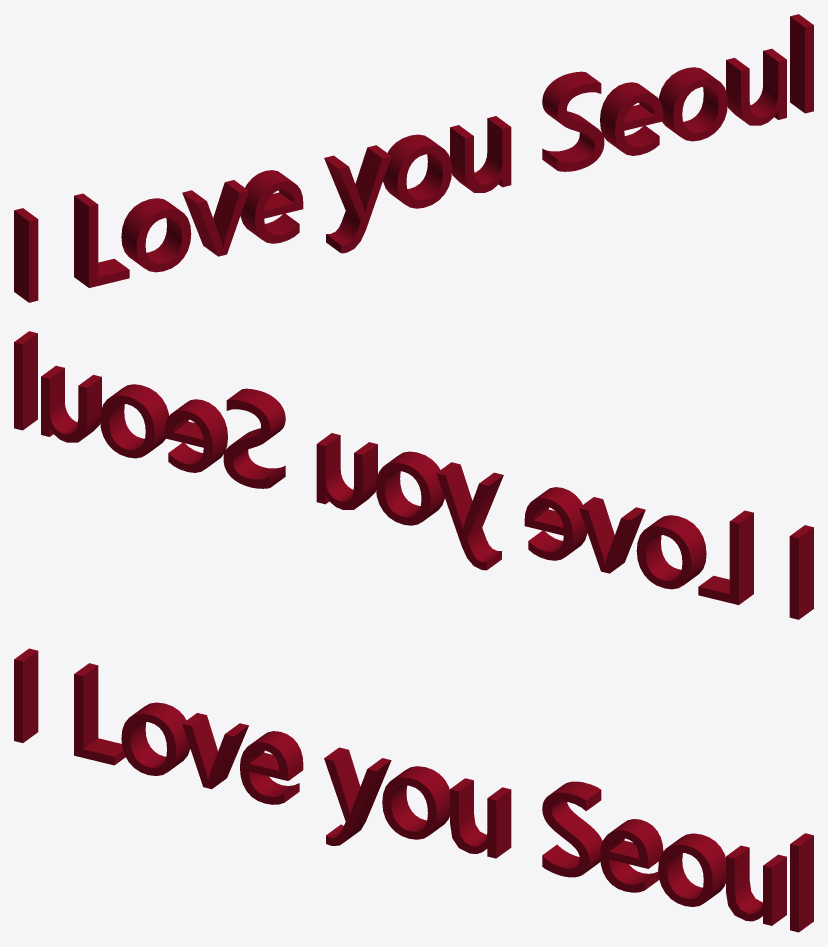
Rendered from _ext_2.fbx.
3 views of the same model, one above another, from view 1: azimuth 30°, elevation 25°; view 2: azimuth 150°, elevation 25°; view 3: azimuth 330°, elevation 25° (orthographic).
Visible parts, largest first — view 1: node_id5; view 2: node_id5; view 3: node_id5.
Part boxes in pixels (x1,y1,x2,y2): node_id5: (14, 14, 813, 302); node_id5: (14, 331, 813, 619); node_id5: (14, 648, 813, 932).
Bounding box in the file's own units: 0.512 × 0.0708 × 0.017.
1 material, 1 textured.
